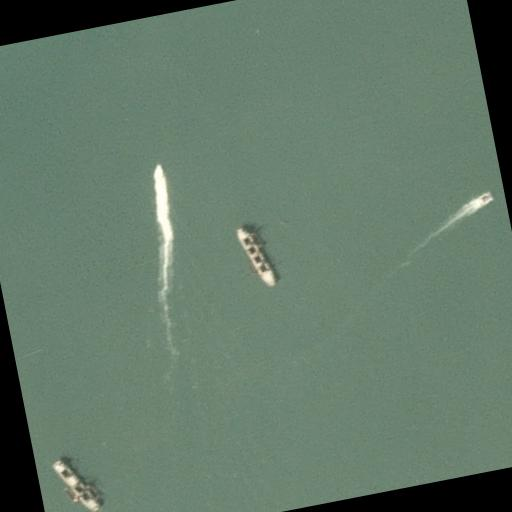ship: (234, 220, 278, 292), (50, 453, 102, 512), (62, 484, 82, 506), (152, 161, 165, 181), (478, 192, 493, 204)
